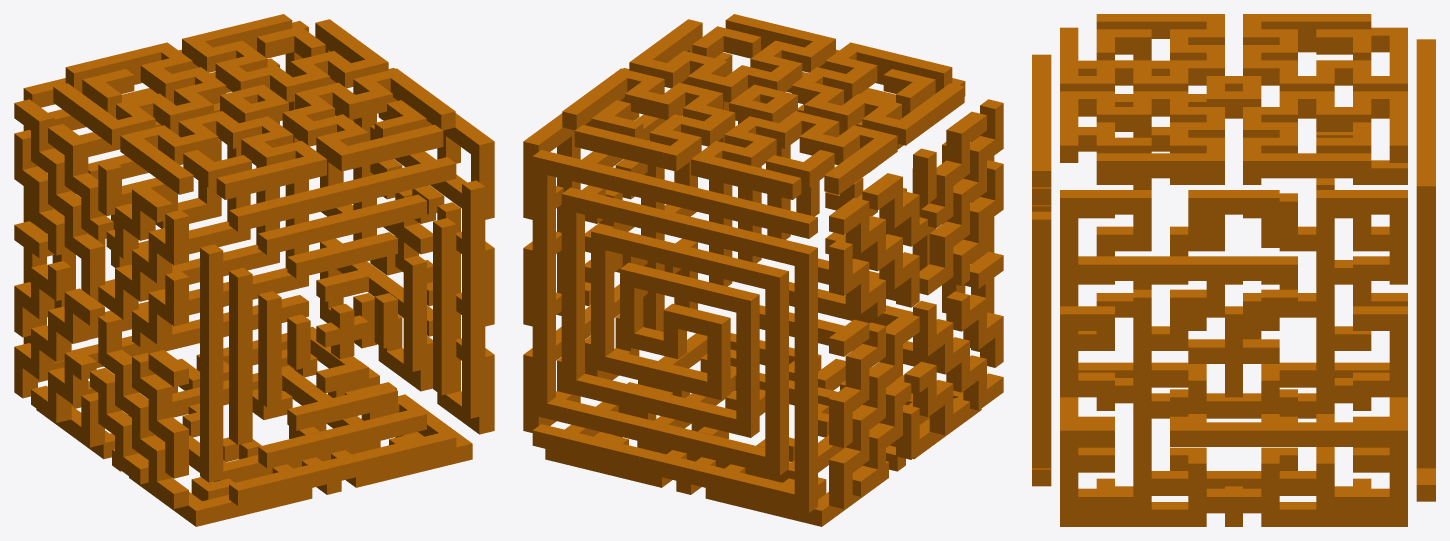
File: qazertyui.FBX
3 views of the same model, side by side, from view 1: azimuth 30°, elevation 25°; view 2: azimuth 150°, elevation 25°; view 3: azimuth 270°, elevation 25° (orthographic). The views are drawn at different scales.
Visible parts, largest first — view 1: Bloc_07_actif; view 2: Bloc_07_actif; view 3: Bloc_07_actif.
Part boxes in pixels (x1,y1,x2,y2): Bloc_07_actif: [14, 14, 494, 526]; Bloc_07_actif: [523, 14, 1003, 526]; Bloc_07_actif: [1032, 14, 1435, 526].
Bounding box in the file's own units: 105 × 105 × 105.
